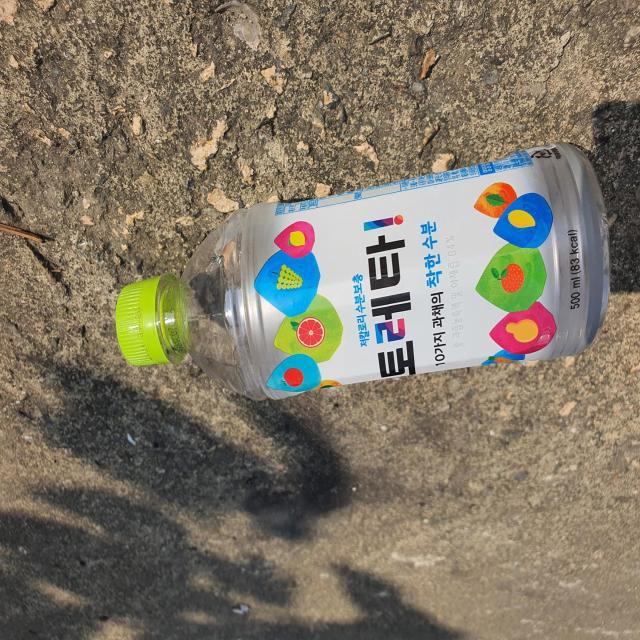plastic: (115, 142, 611, 400)
